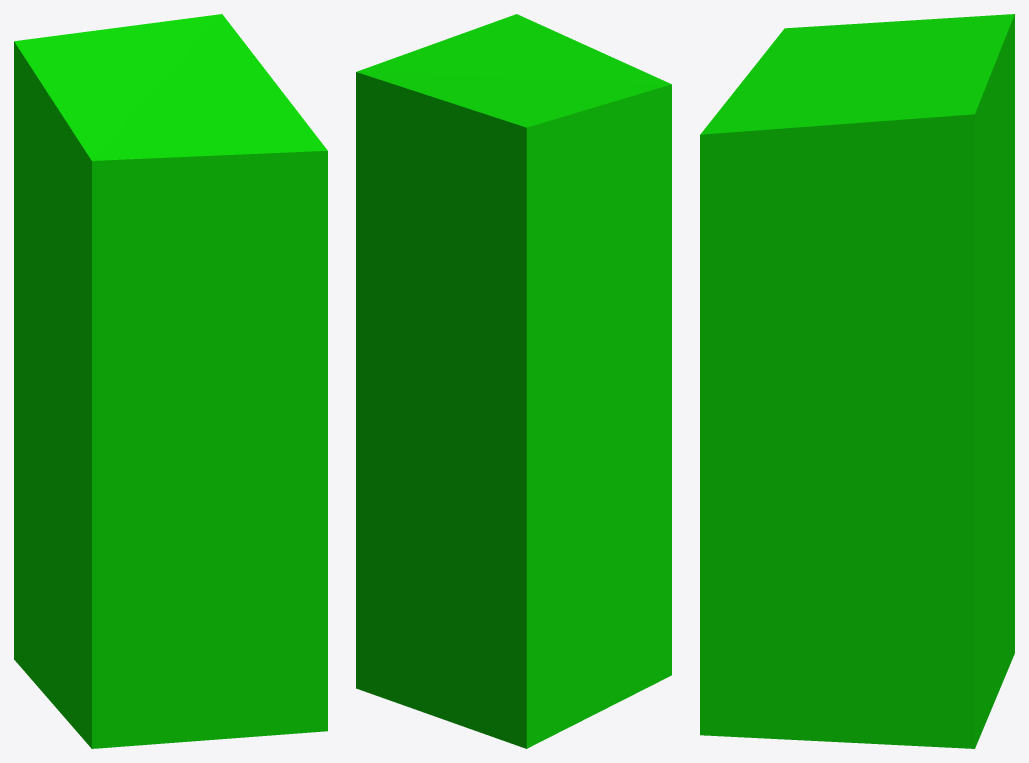
3 renders of one model, left to right at view 1: azimuth 30°, elevation 25°; view 2: azimuth 150°, elevation 25°; view 3: azimuth 270°, elevation 25°, orthographic. The views are drawn at different scales.
Visible parts, largest first — view 1: Plane.008; view 2: Plane.008; view 3: Plane.008.
Part boxes in pixels (x1,y1,x2,y2): Plane.008: [14, 14, 327, 748]; Plane.008: [356, 14, 671, 748]; Plane.008: [700, 14, 1014, 748].
Size of the model in its own units: 357 by 949 by 423.
